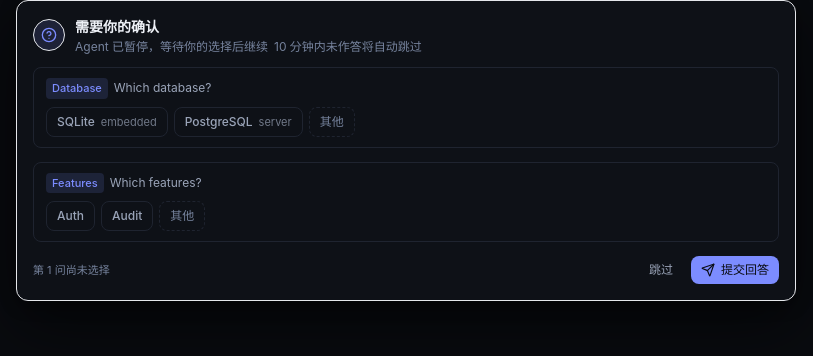
Test: AskUserCard › closing 其他 drops the draft text
Click the button with test id "ask-user-card-other-0" at {"x": 332, "y": 122}, box [309, 106, 355, 136]
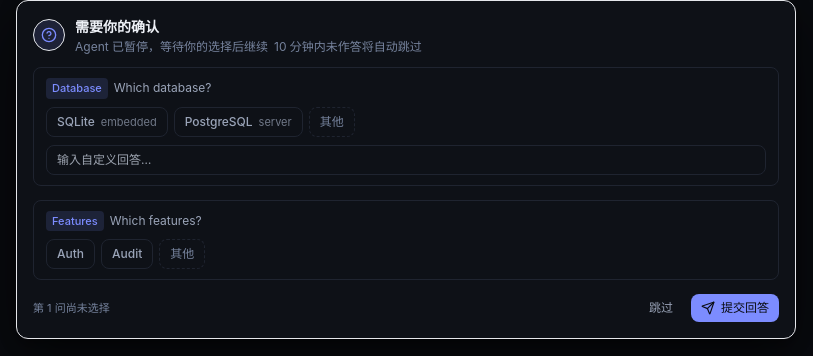
Type "MySQL" into the field with test id "ask-user-card-other-input-0" at {"x": 406, "y": 160}, box [46, 144, 766, 174]
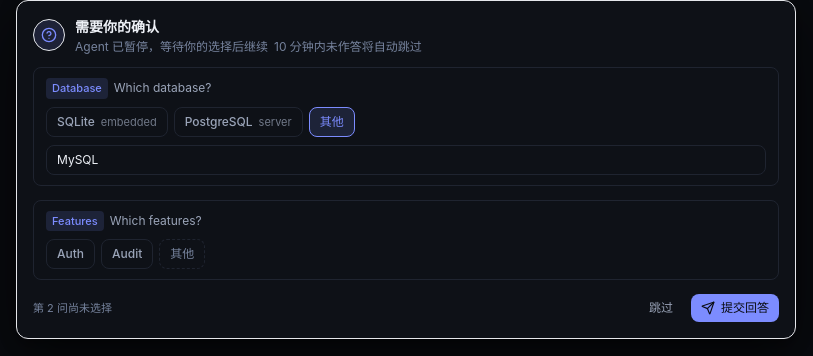
Click the button with test id "ask-user-card-other-0" at {"x": 332, "y": 122}, box [309, 106, 355, 136]
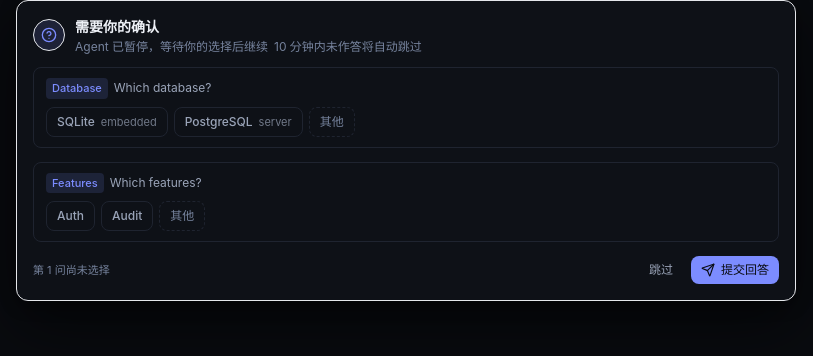
Expected: the field with test id "ask-user-card-other-input-0" is gone
Expected: the text with test id "ask-user-card-hint" reads "第 1 问尚未选择", [33, 263, 110, 277]
